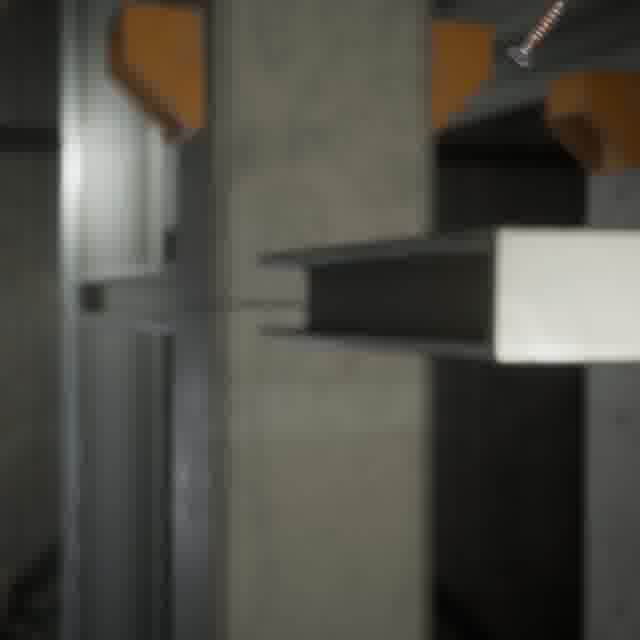bolt: (501, 0, 570, 74)
